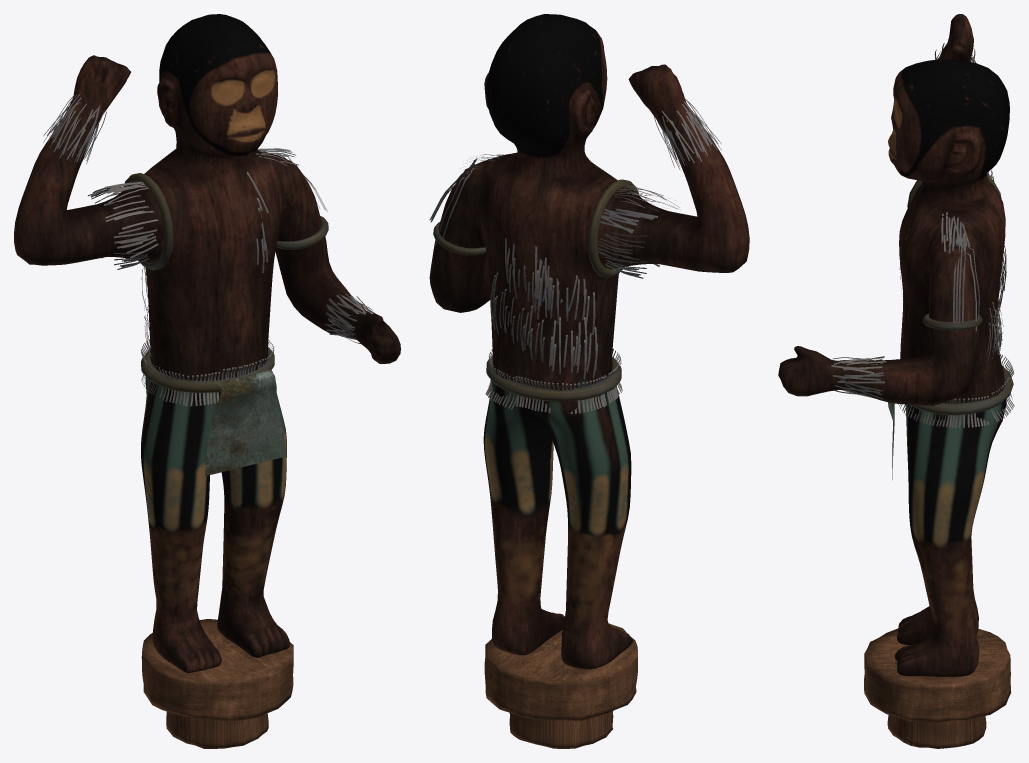
File: Homme_oiseau.fbx
The picture shows the model from 3 angles, left to right: view 1: azimuth 30°, elevation 25°; view 2: azimuth 150°, elevation 25°; view 3: azimuth 270°, elevation 25°; orthographic projection. The views are drawn at different scales.
Parts seen in each view (by area): view 1: Homme_oiseau_auto_uv; view 2: Homme_oiseau_auto_uv; view 3: Homme_oiseau_auto_uv.
Boxes of the visible parts, x1,y1,x2,y2 form: Homme_oiseau_auto_uv: (14, 14, 400, 748); Homme_oiseau_auto_uv: (429, 14, 749, 748); Homme_oiseau_auto_uv: (778, 14, 1014, 748).
Size of the model in its own units: 317 by 680 by 217.
1 material, 1 textured.
